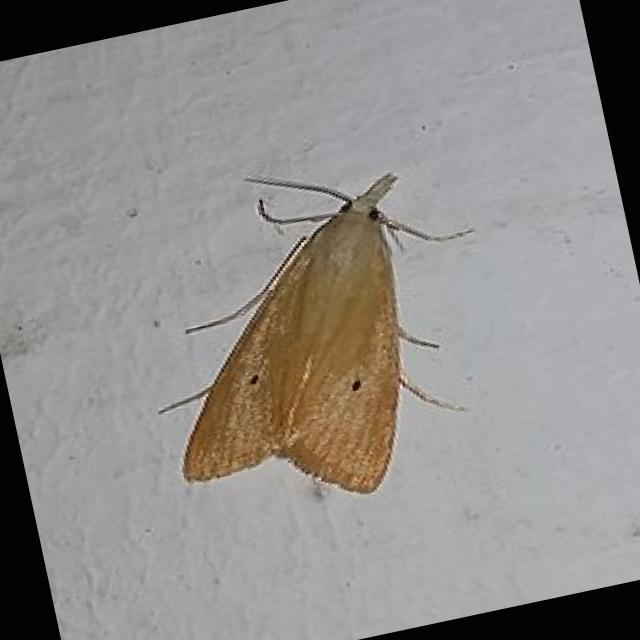stem borer: (183, 179, 400, 493)
